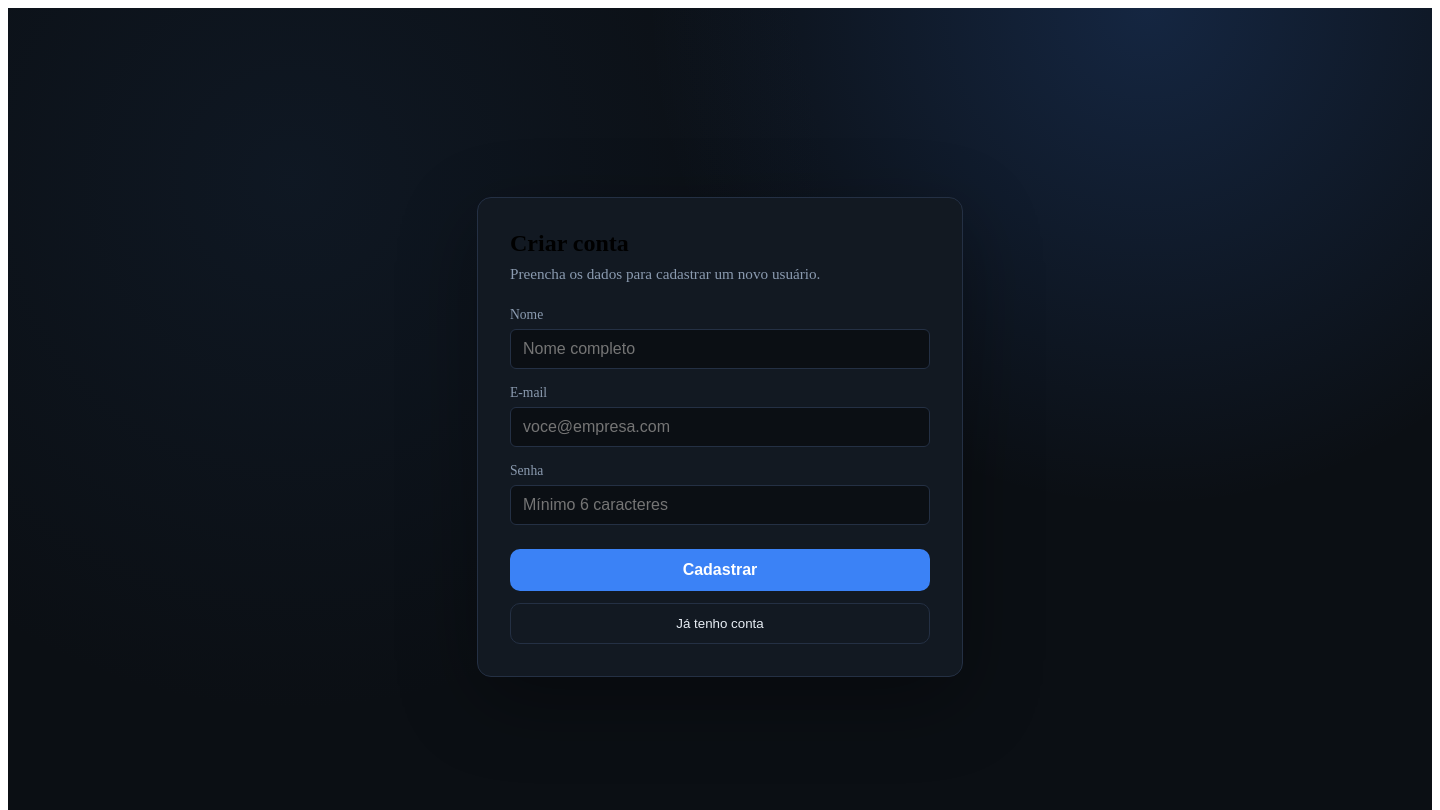
Test: RegisterForm › mostra erro quando o registo falha
Type "X" into the field labelled "Nome" at (720, 349), box top-left (510, 329), bottom-right (930, 369)
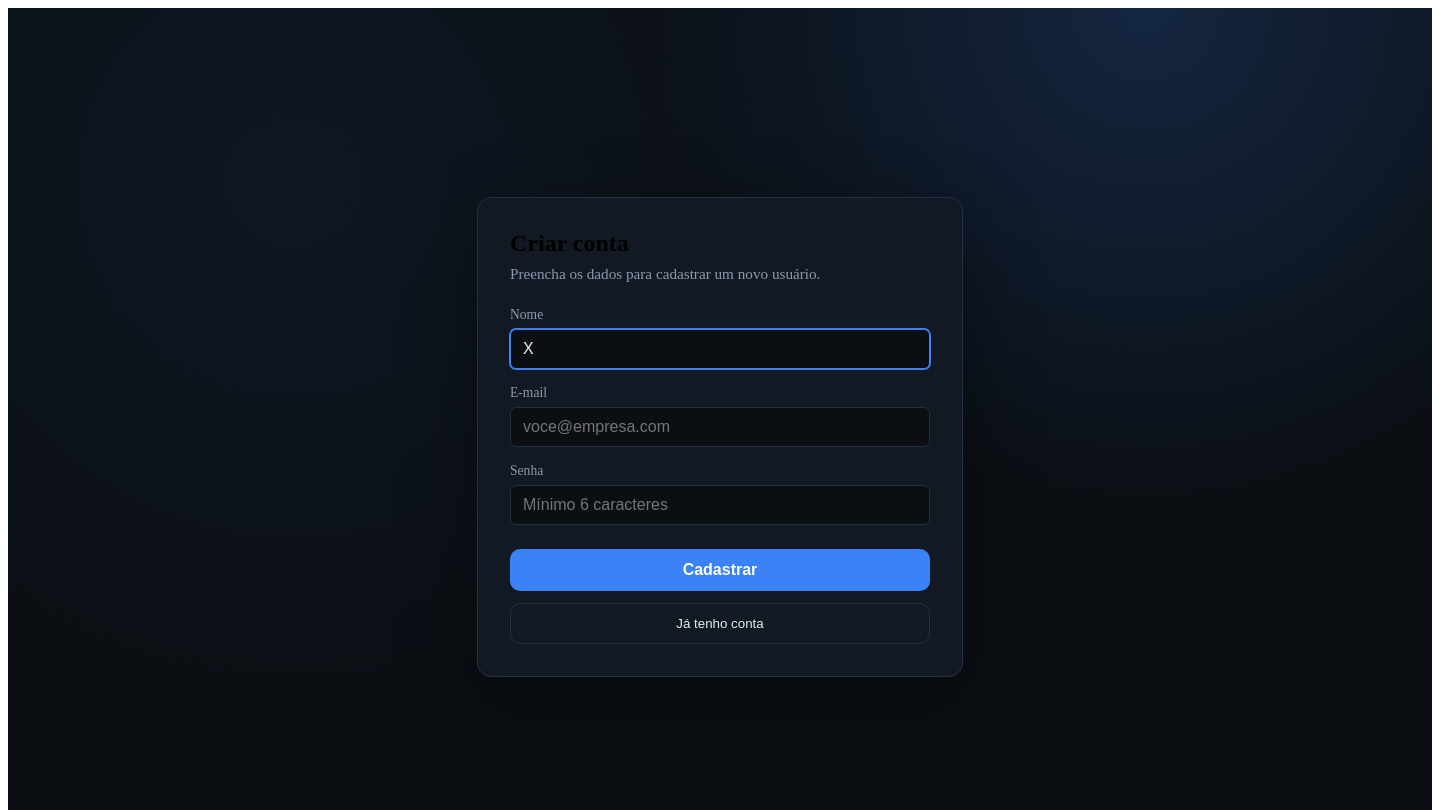
Type "dup@b.com" into the field labelled "E-mail" at (720, 427), box top-left (510, 407), bottom-right (930, 447)
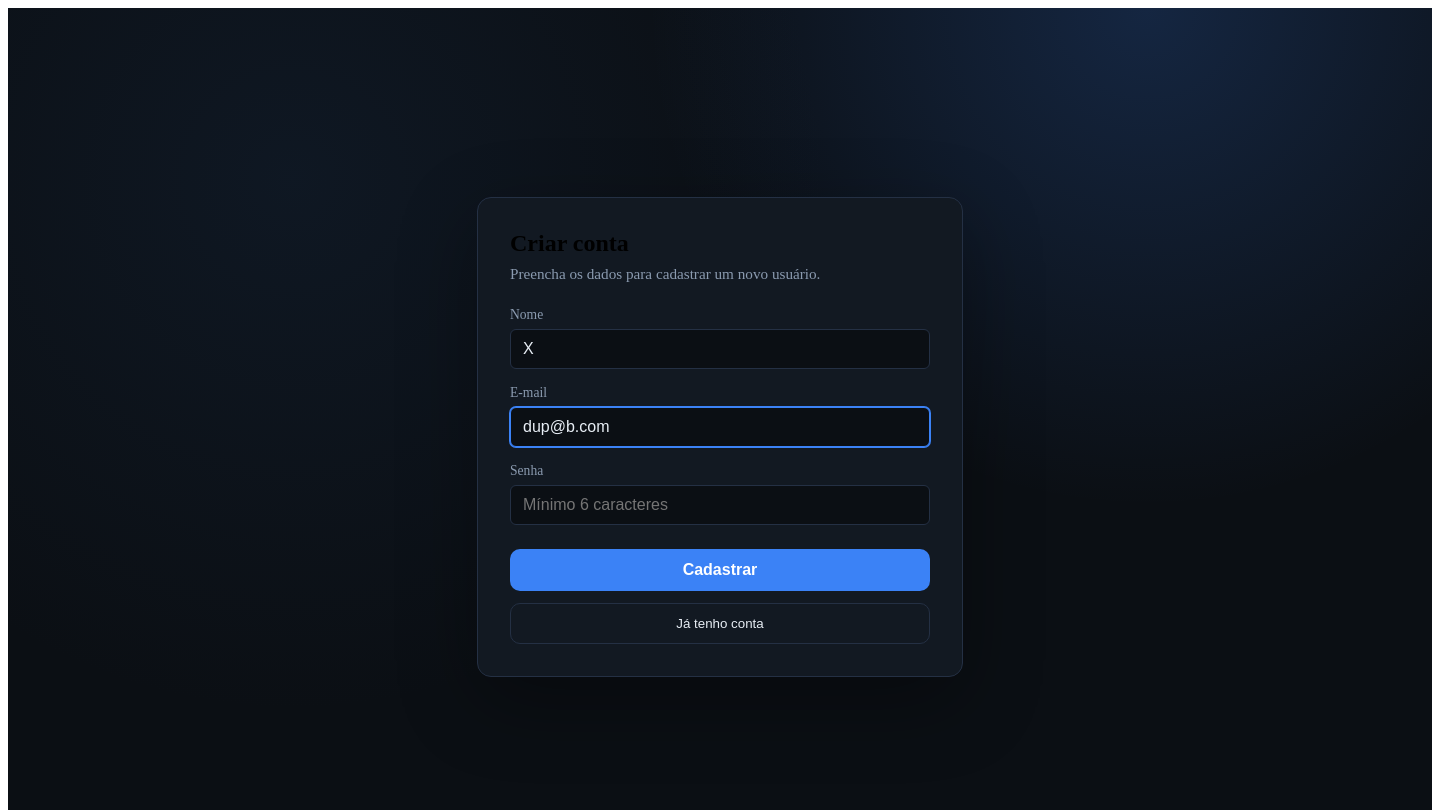
Type "senha12" into the password field labelled "Senha" at (720, 505), box top-left (510, 485), bottom-right (930, 525)
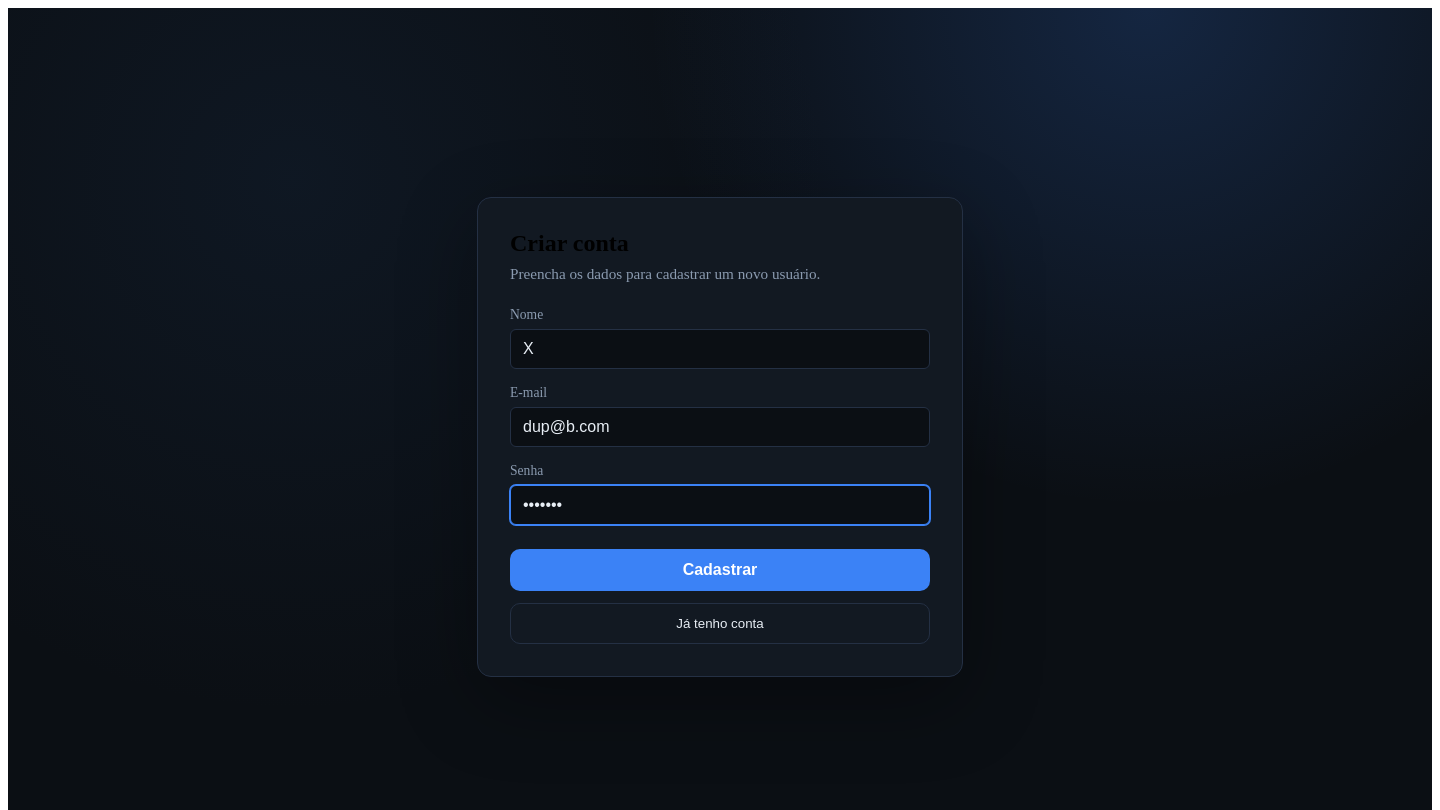
Click the button "Cadastrar" at (720, 570), box top-left (510, 549), bottom-right (930, 591)
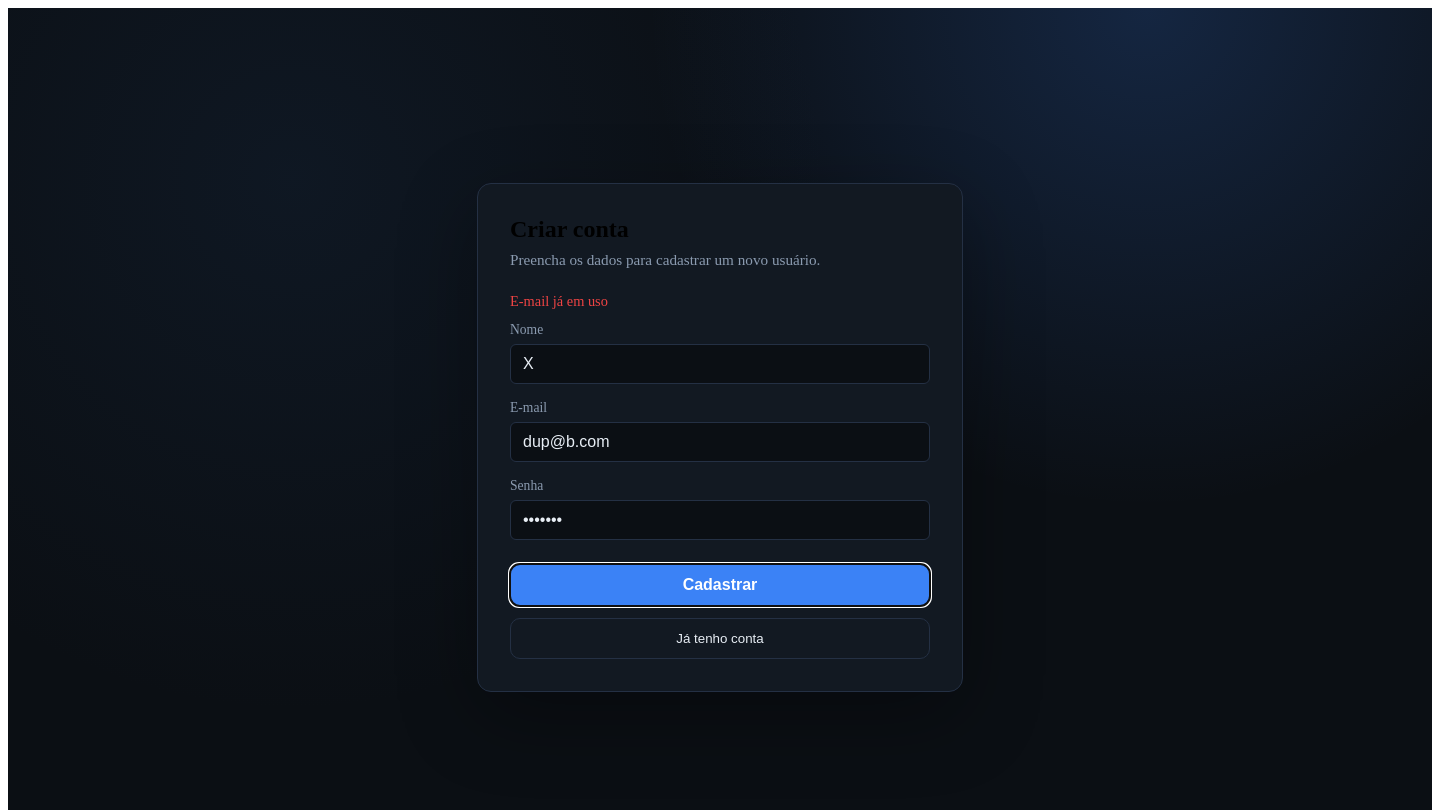
Expected: the text "E-mail já em uso" is shown, top-left (510, 292), bottom-right (608, 308)
